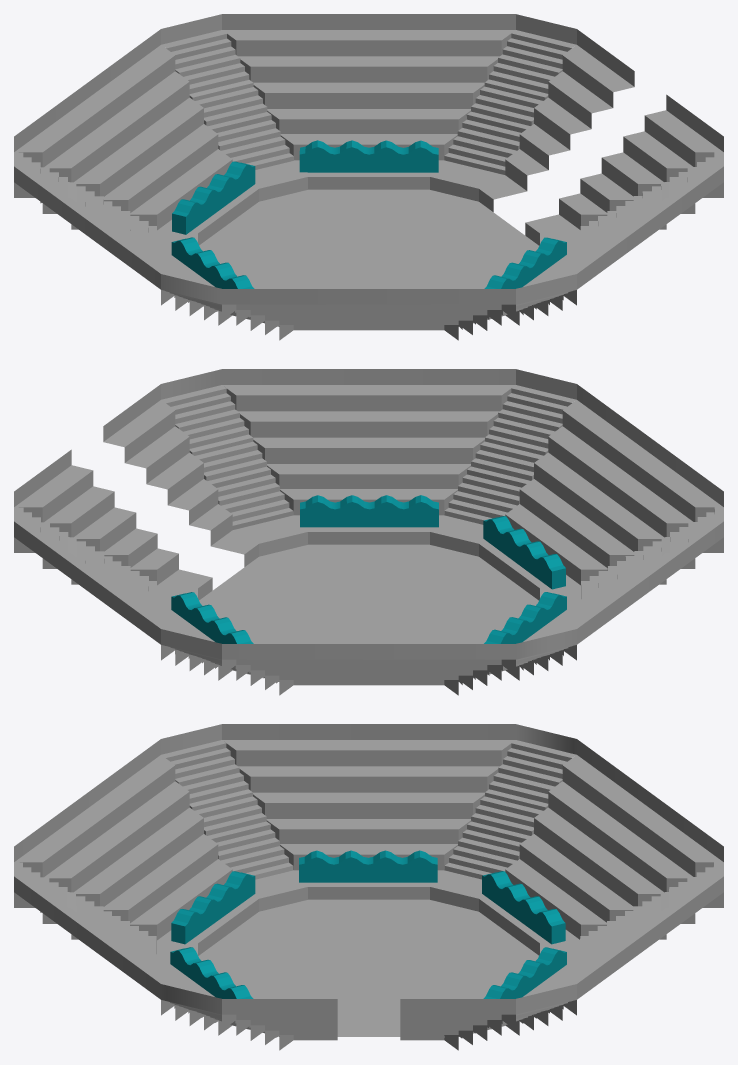
Rendered from Harrow.fbx.
The picture shows the model from 3 angles, top to bottom: view 1: azimuth 30°, elevation 25°; view 2: azimuth 150°, elevation 25°; view 3: azimuth 270°, elevation 25°; orthographic projection.
Visible parts, largest first — view 1: Harrow; view 2: Harrow; view 3: Harrow.
Boxes of the visible parts, <box> form: Harrow: <box>14,14,723,340</box>; Harrow: <box>14,369,723,695</box>; Harrow: <box>14,724,723,1050</box>.
Bounding box in the file's own units: 5679 × 1030 × 6202.
